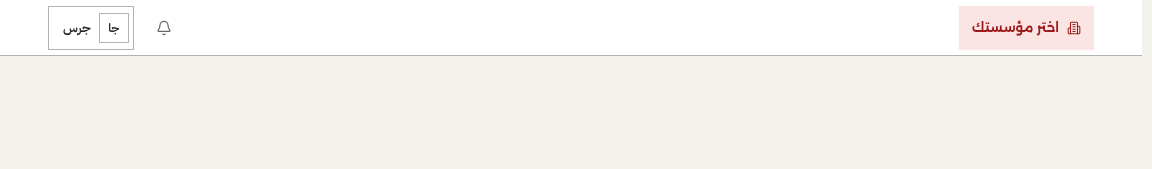
Test case: InstitutionChip — passive pill vs switcher › a context-less multi-membership session marks the trigger data-context-lost
Click the button with aria-label "اختيار المؤسسة": (1026, 28) [959,6,1094,50]
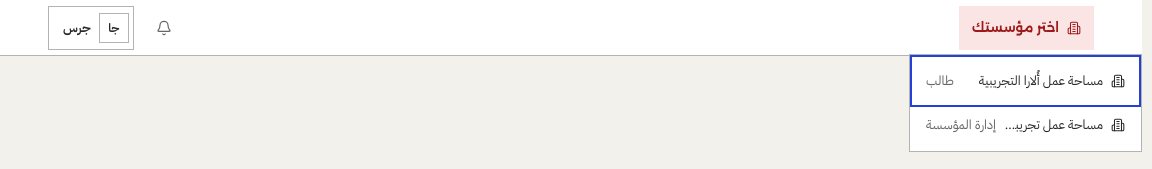
Now the menu named "اختيار المؤسسة" is shown, box [914,58,1137,146]
Now the number of menu items is 2, box [914,58,1137,102]; [914,102,1137,146]
